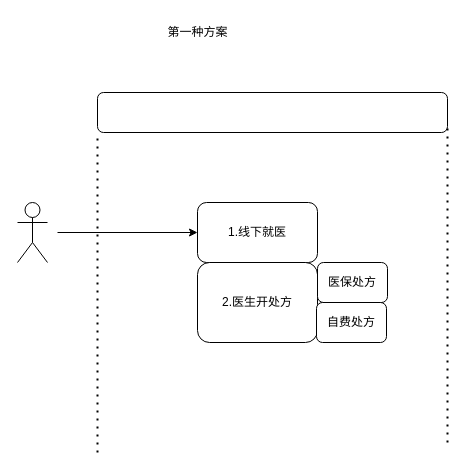
Image size: 467x471. Some labels were removed from this diagram. Each missing label, with the centre of its shape:
Actor: point 32,232
医院: point 272,112
